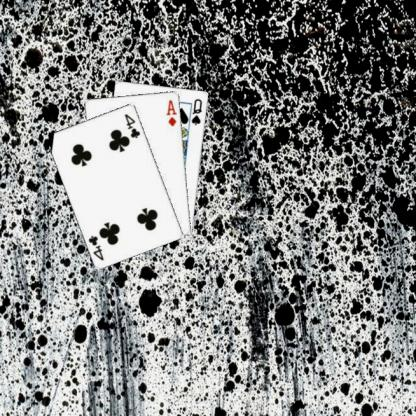4C: (88, 232, 107, 262), (124, 111, 143, 139)
AD: (165, 97, 180, 127)
QS: (191, 96, 205, 126)
